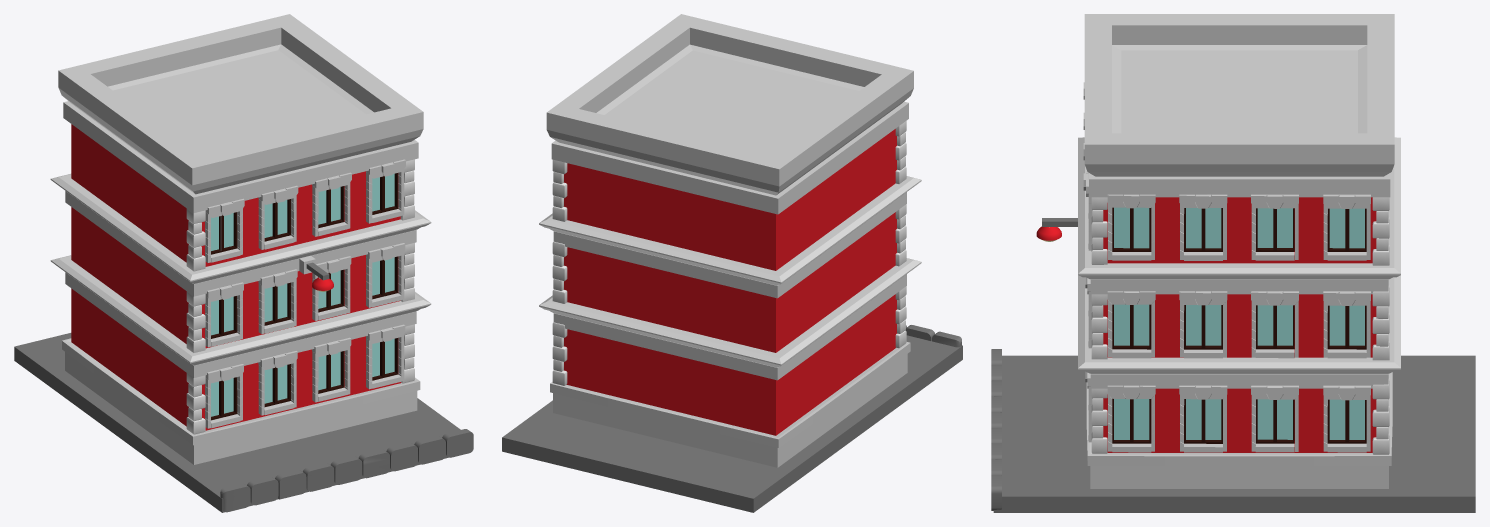
File: building2.fbx
3 renders of one model, left to right at view 1: azimuth 30°, elevation 25°; view 2: azimuth 150°, elevation 25°; view 3: azimuth 270°, elevation 25°, orthographic. The views are drawn at different scales.
Visible parts, largest first — view 1: Cube, Cube.001, Cube.042, Cube.002, Cube.004, Cube.008, Cube.007, Cube.012, Cube.009, Cube.003, Cube.013, Cube.011 (+5 smaller); view 2: Cube, Cube.001, Cube.042, Cube.002; view 3: Cube, Cube.001, Cube.042, Cube.015, Cube.019, Cube.023, Cube.018, Cube.022, Cube.016, Cube.020, Cube.026, Cube.021 (+17 smaller).
Boxes of the visible parts, left/top/right/bottom form: Cube: left=50, top=101, right=431, bottom=464; Cube.001: left=58, top=14, right=423, bottom=194; Cube.042: left=14, top=333, right=460, bottom=512; Cube.002: left=220, top=429, right=473, bottom=512; Cube.004: left=264, top=282, right=294, bottom=333; Cube.008: left=264, top=364, right=294, bottom=415; Cube.007: left=210, top=377, right=240, bottom=428; Cube.012: left=264, top=199, right=294, bottom=249; Cube.009: left=318, top=351, right=347, bottom=401; Cube.003: left=210, top=296, right=240, bottom=346; Cube.013: left=318, top=186, right=347, bottom=236; Cube.011: left=210, top=212, right=240, bottom=262; Cube: left=539, top=101, right=921, bottom=467; Cube.001: left=546, top=14, right=913, bottom=195; Cube.042: left=502, top=335, right=962, bottom=512; Cube.002: left=905, top=325, right=961, bottom=347; Cube: left=1078, top=137, right=1400, bottom=488; Cube.001: left=1084, top=14, right=1394, bottom=176; Cube.042: left=993, top=355, right=1475, bottom=512; Cube.015: left=1112, top=304, right=1151, bottom=358; Cube.019: left=1112, top=398, right=1151, bottom=452; Cube.023: left=1112, top=207, right=1151, bottom=260; Cube.018: left=1327, top=305, right=1366, bottom=358; Cube.022: left=1327, top=399, right=1366, bottom=452; Cube.016: left=1184, top=305, right=1222, bottom=358; Cube.020: left=1184, top=399, right=1222, bottom=452; Cube.026: left=1327, top=208, right=1366, bottom=260; Cube.021: left=1255, top=399, right=1294, bottom=452.
Bounding box in the file's own units: 1841 × 2202 × 2661.
